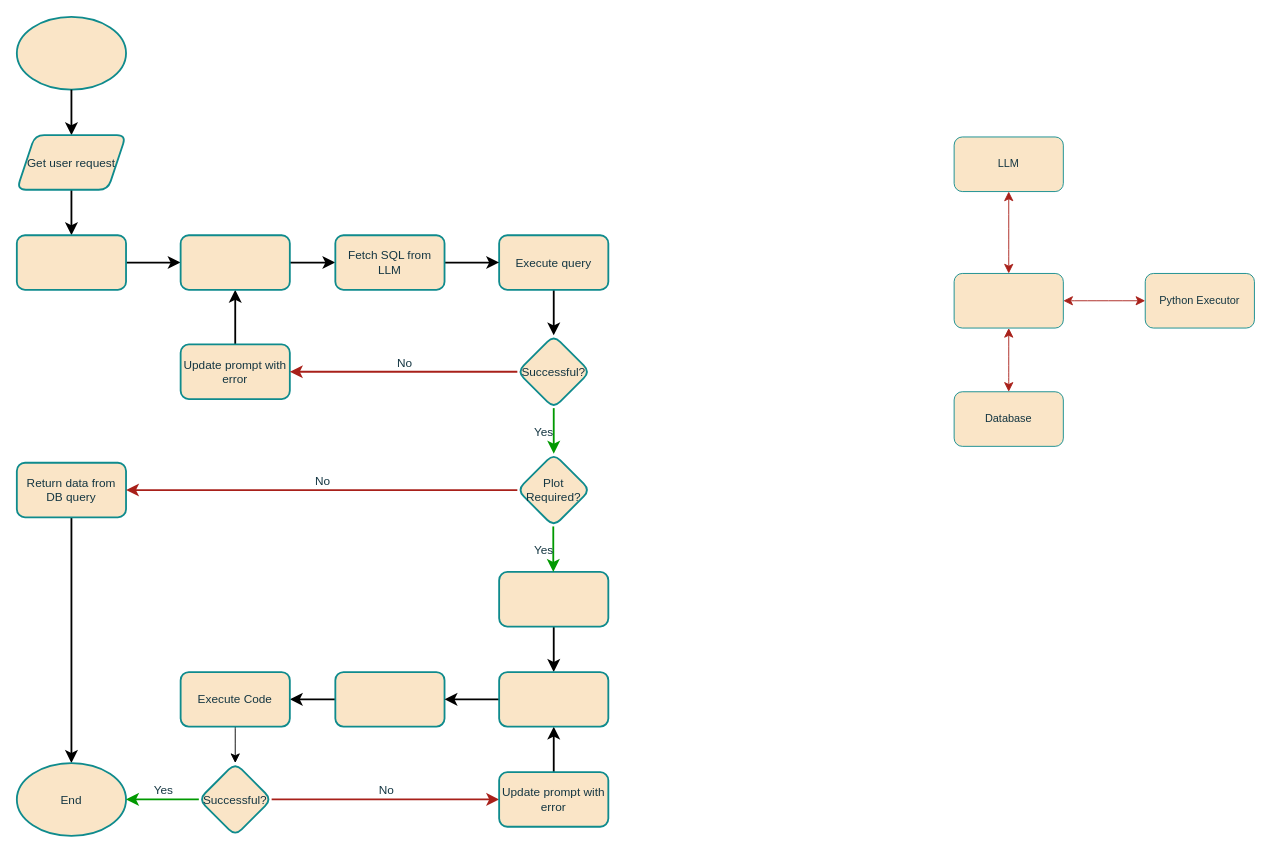
Some shapes in this 1270 by 852 pixel diagram are drawn without their labels. Here are the shapes that lost their labels. From the top down, the box of each, then its label:
(15, 15, 126, 90): Start
(15, 234, 126, 290): Fetch matching data from SQL vector DB
(179, 234, 290, 290): Construct Prompt
(953, 273, 1063, 328): User
(498, 571, 609, 627): Fetch matching data from Python vector DB
(334, 671, 445, 727): Get Python code from LLM
(498, 671, 609, 727): Construct Python prompt
